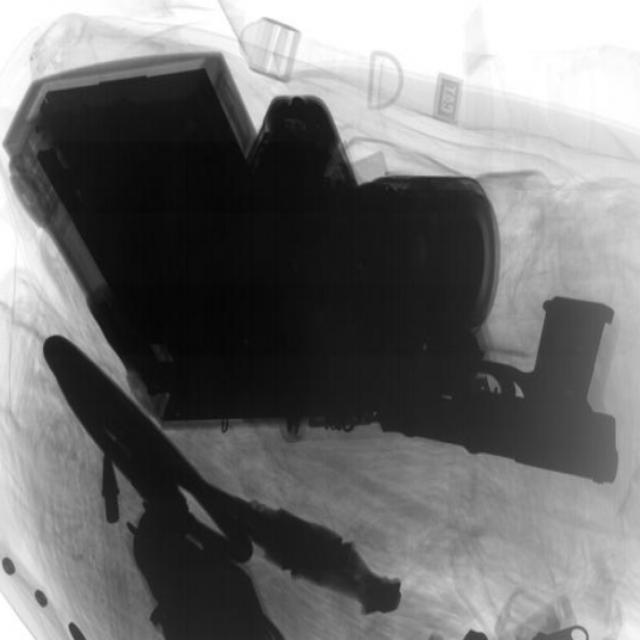GUN: (375, 298, 627, 493)
